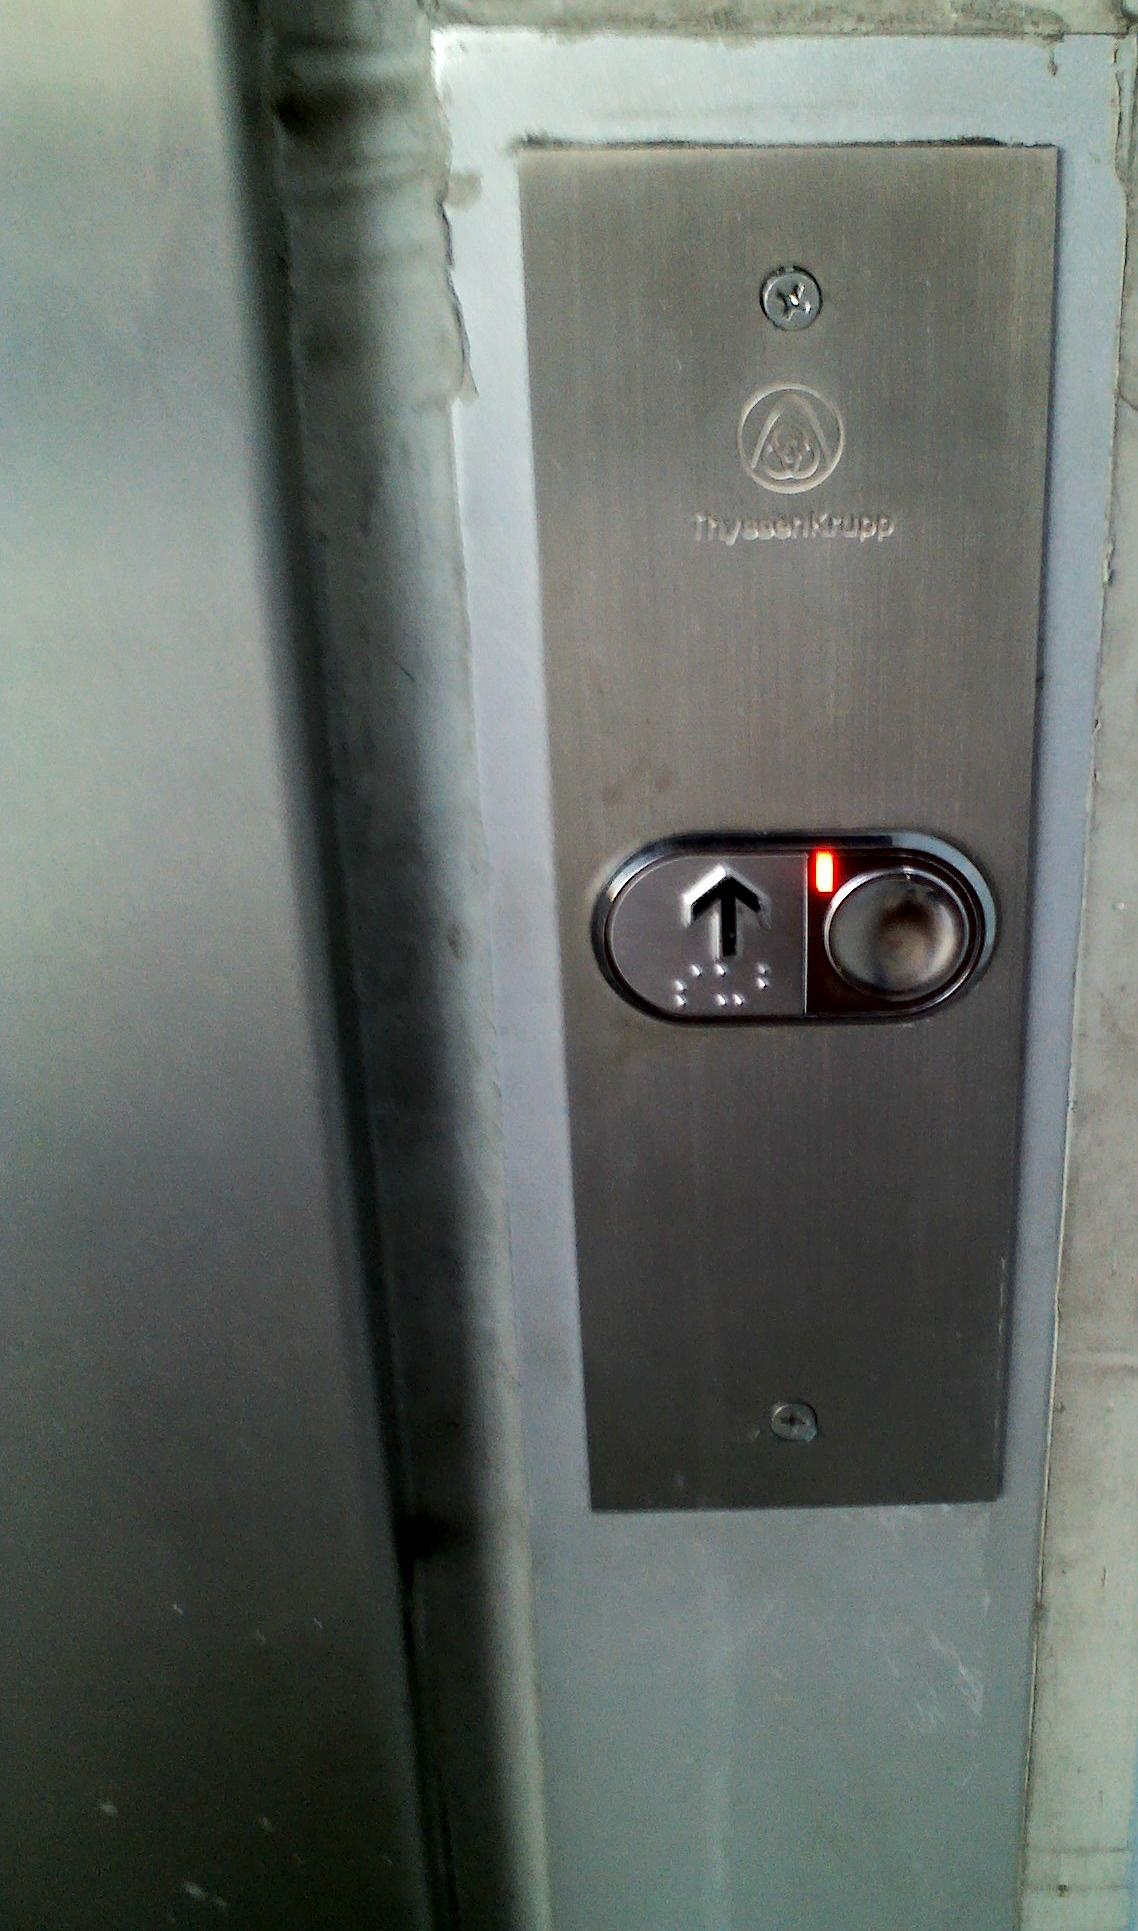up: (577, 817, 1003, 1039)
